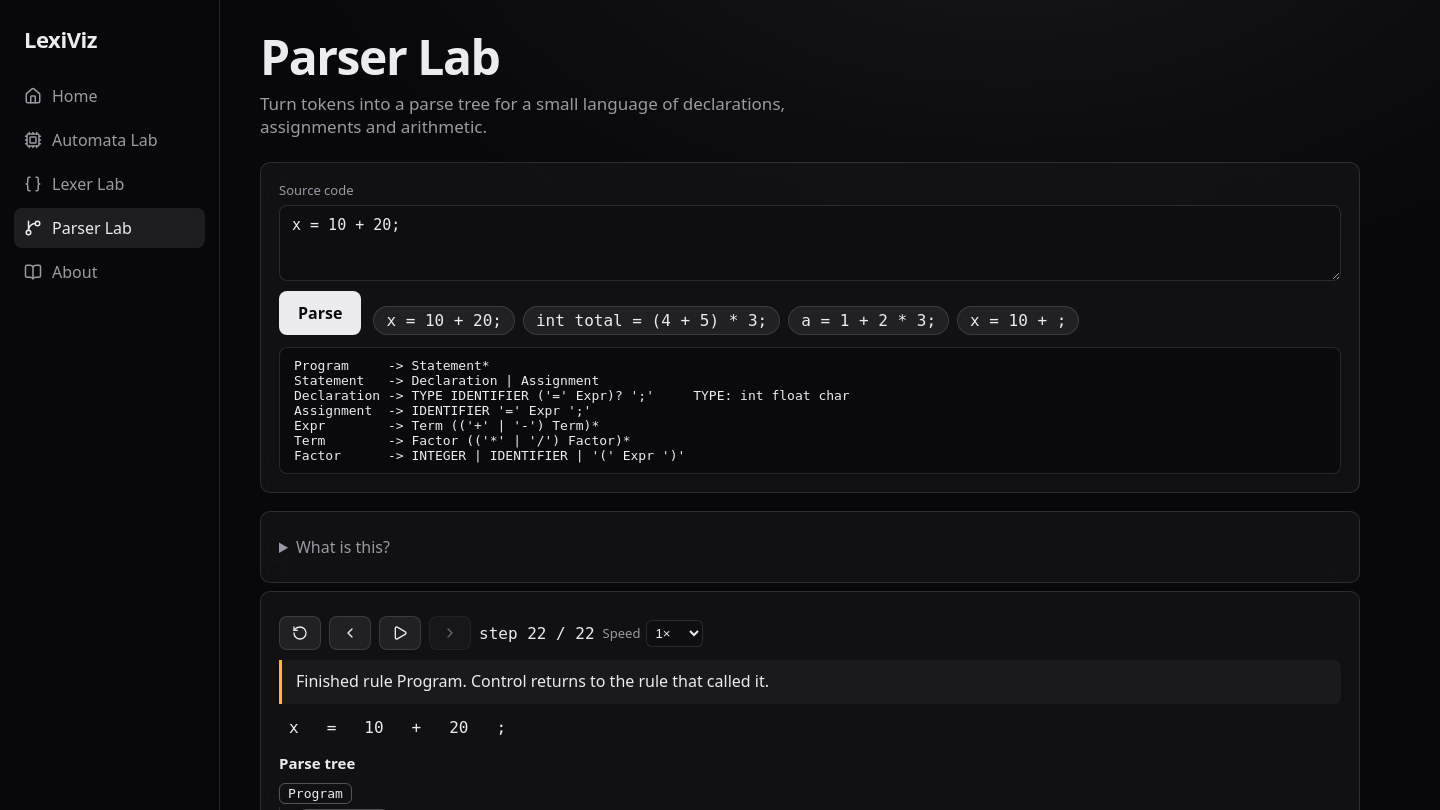
Test case: Parser Lab › the tree grows with each step
Click the button named "Reset" at (300, 633), box [279,616,321,650]
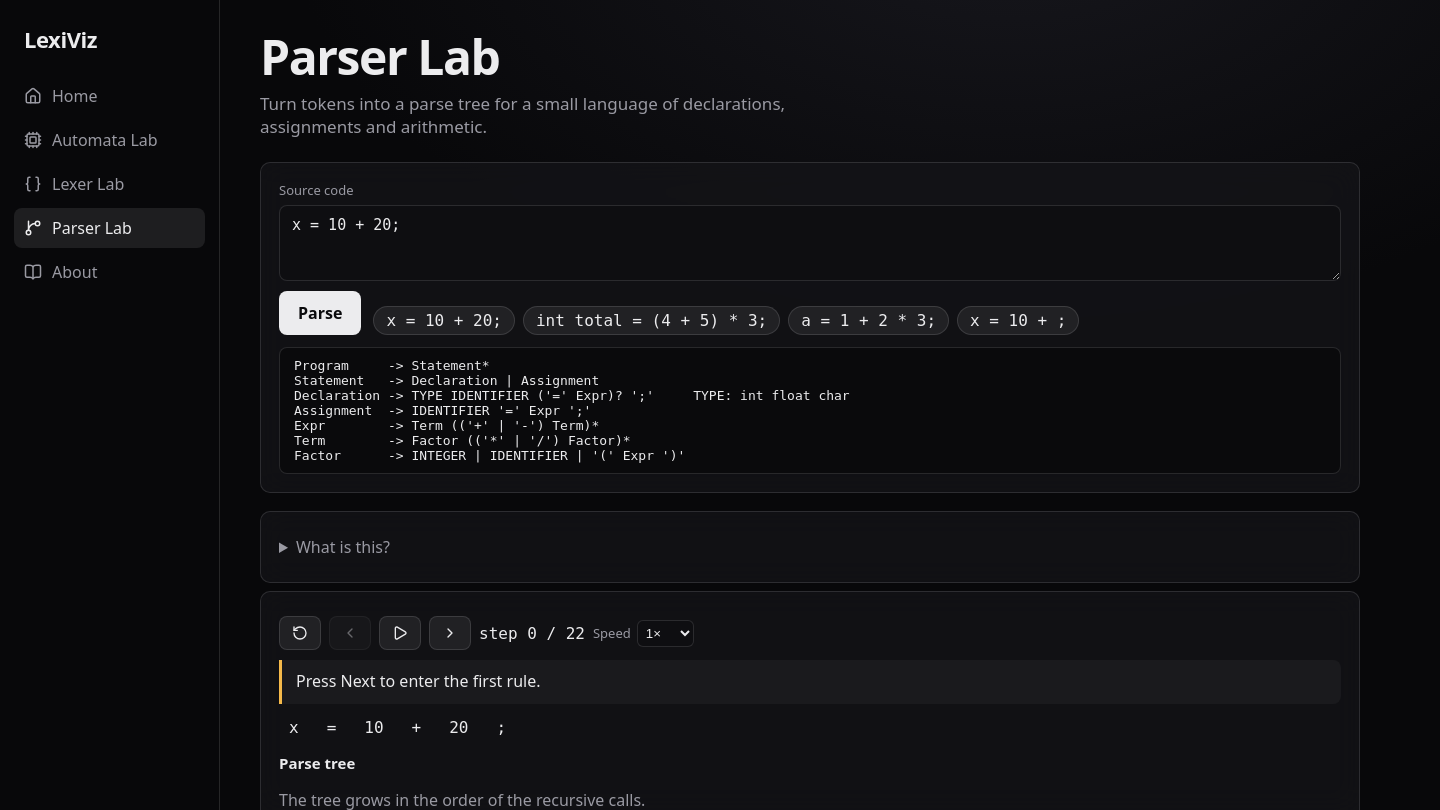
Click the button named "Next step" at (450, 633), box [429,616,471,650]
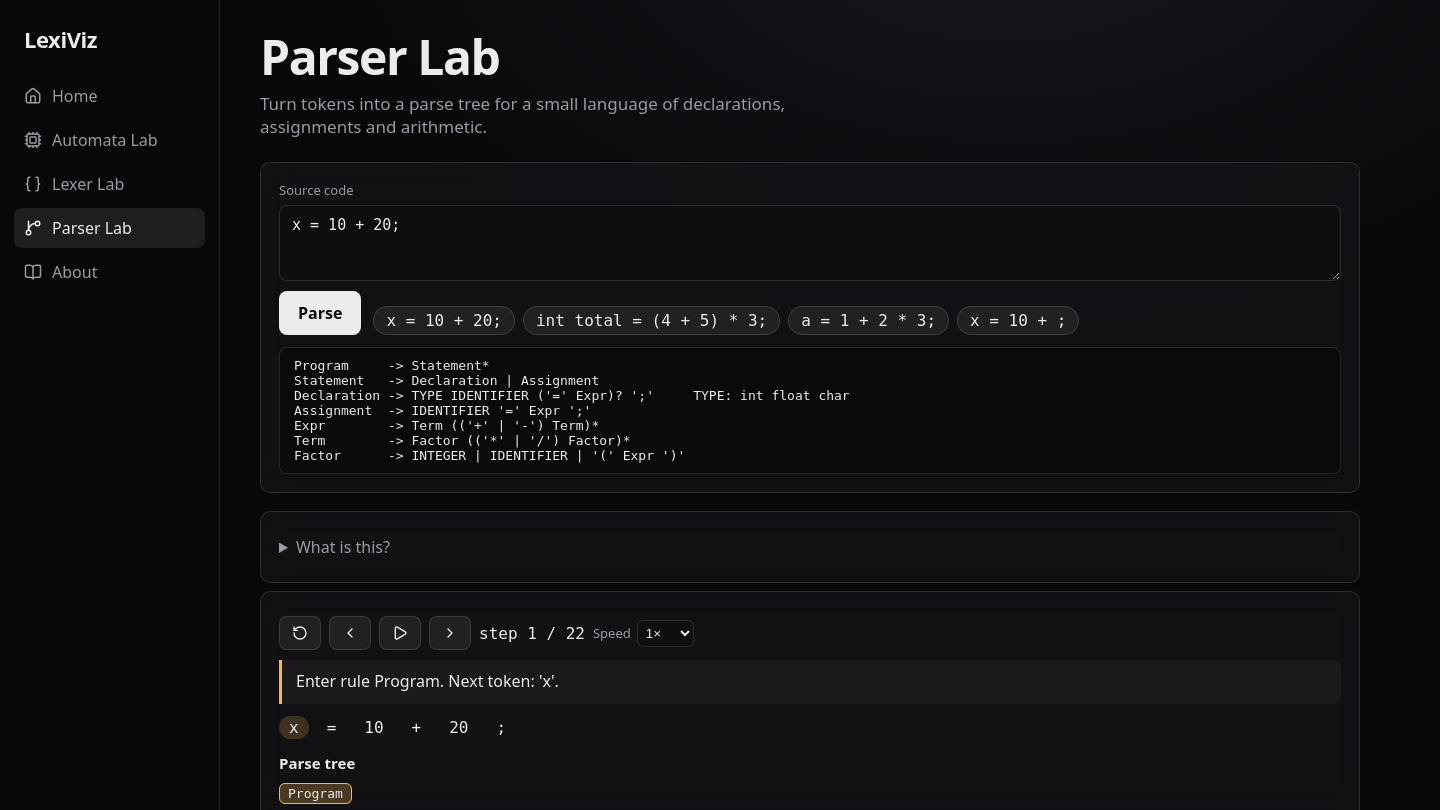
Click the button named "Next step" at (450, 633), box [429,616,471,650]
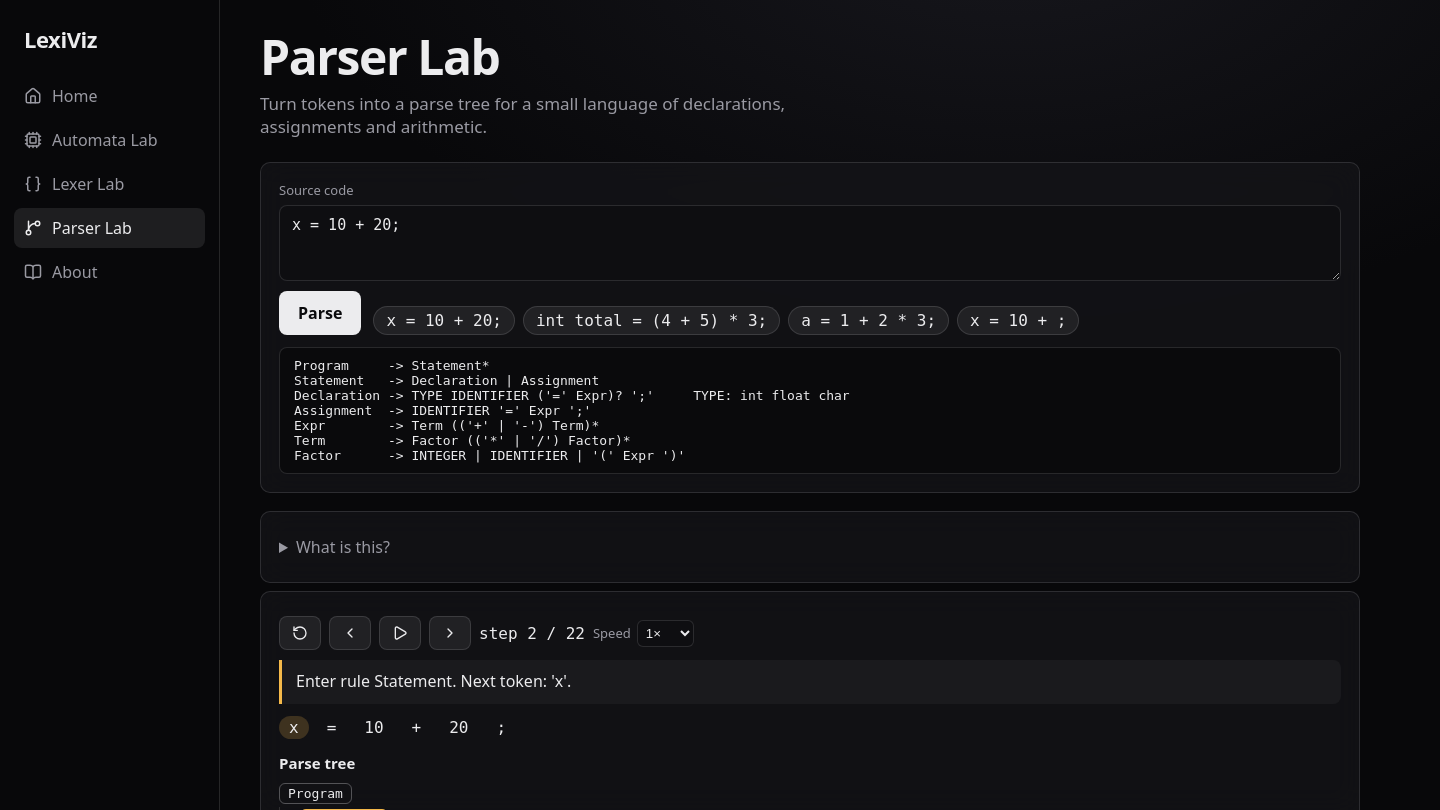
Click the button named "Next step" at (450, 633), box [429,616,471,650]
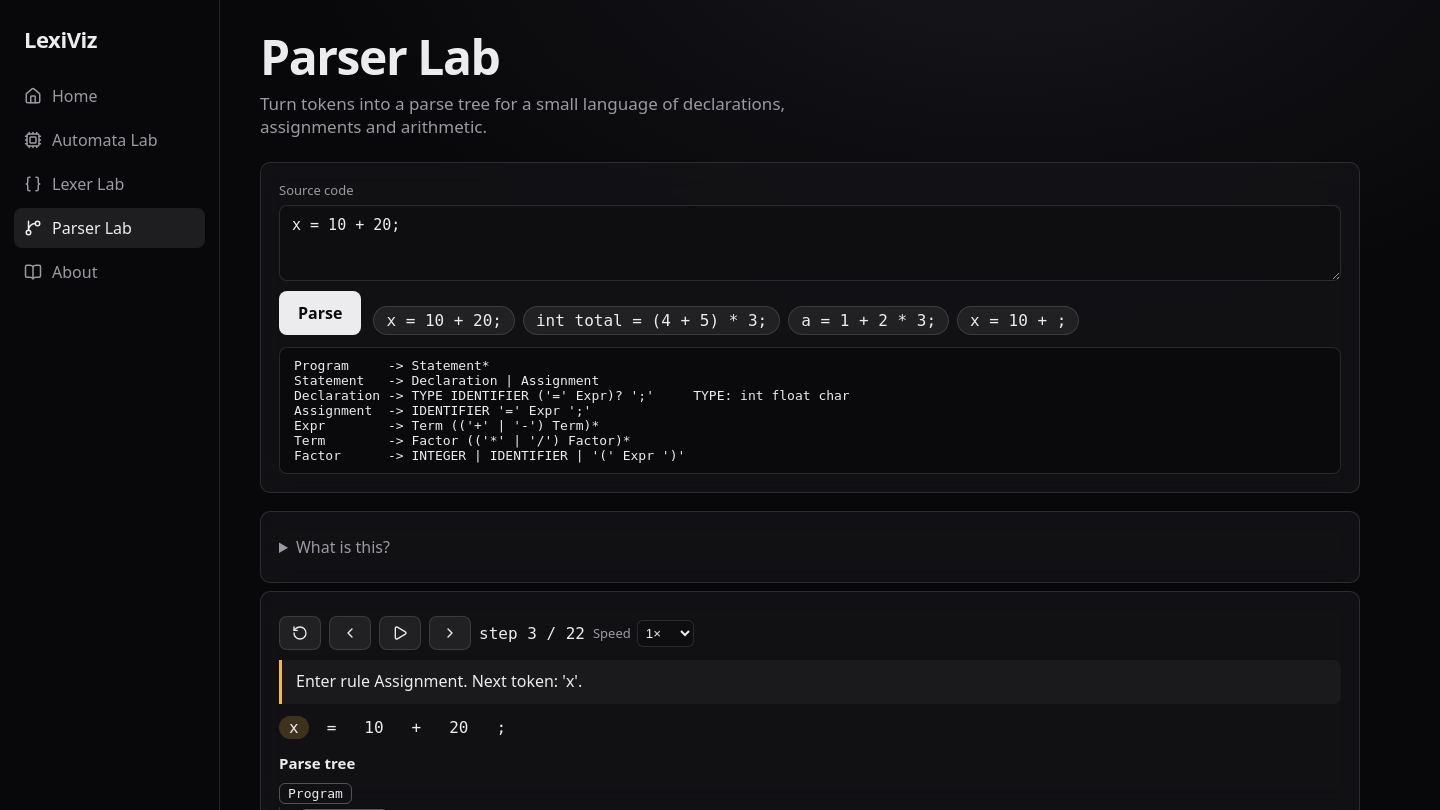
Expected: the text "Program" is shown 3 times
